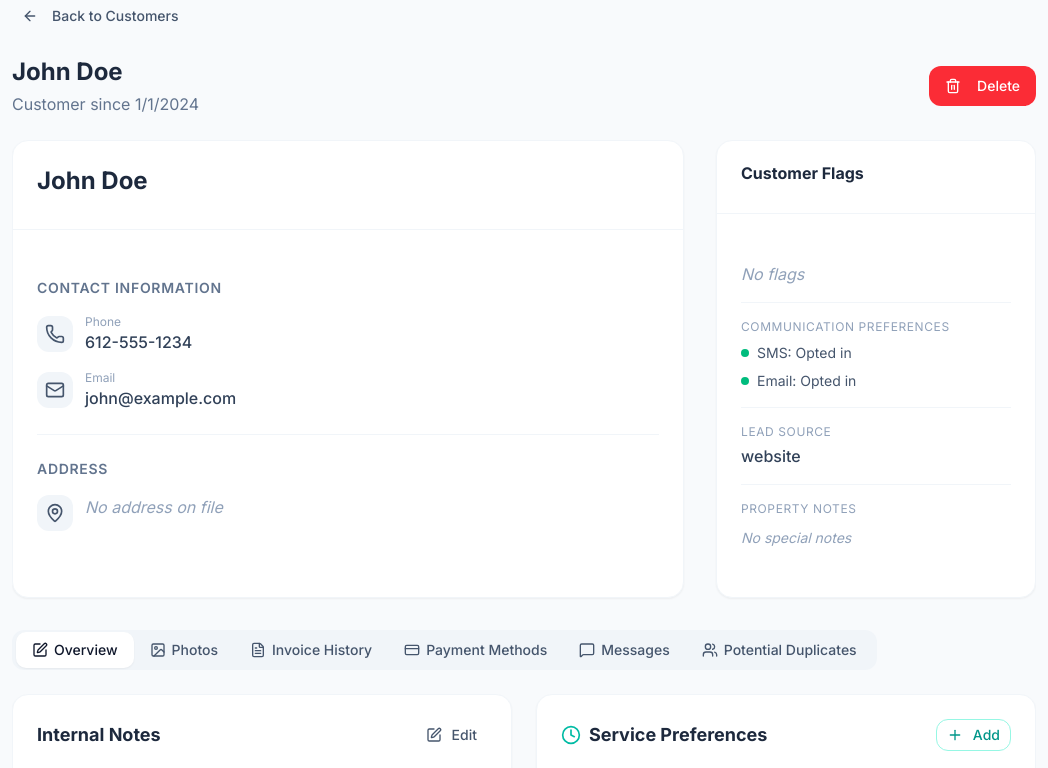
Test case: CustomerDetail › switches to Invoice History tab
The image size is (1048, 768).
Click the tab with test id "tab-invoices". click: (311, 650)
box: [234,632,388,668]
(page scrolled)
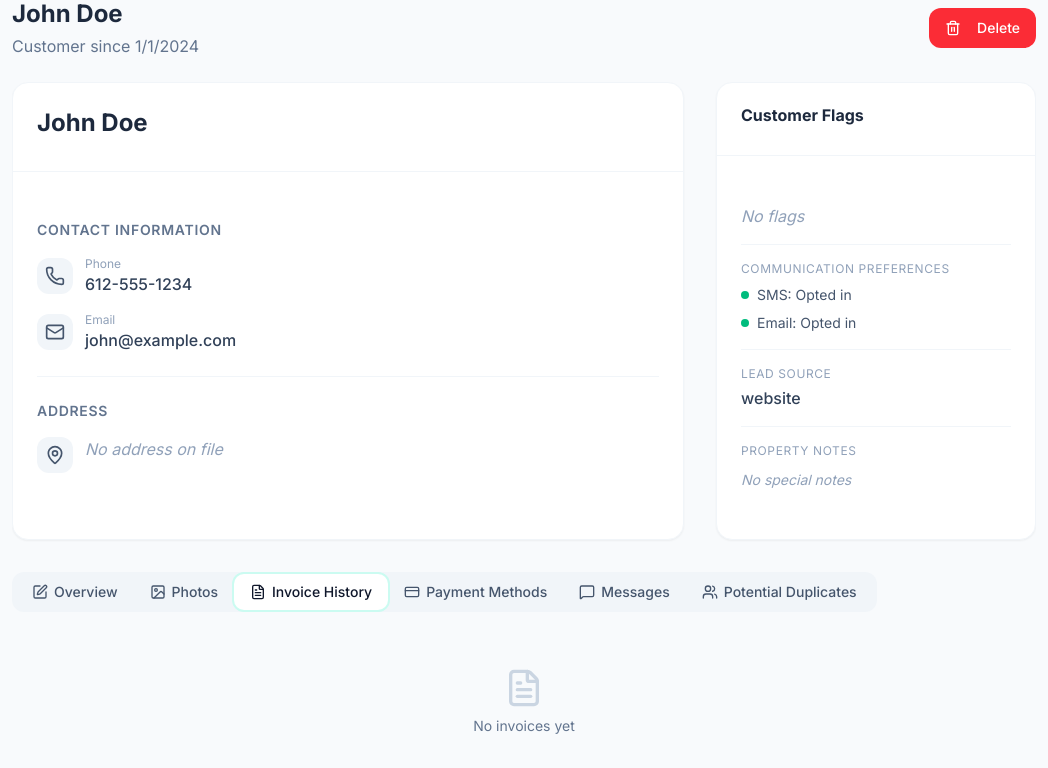
Expected: the element with test id "invoices-empty" is shown, [473,668,575,734]
